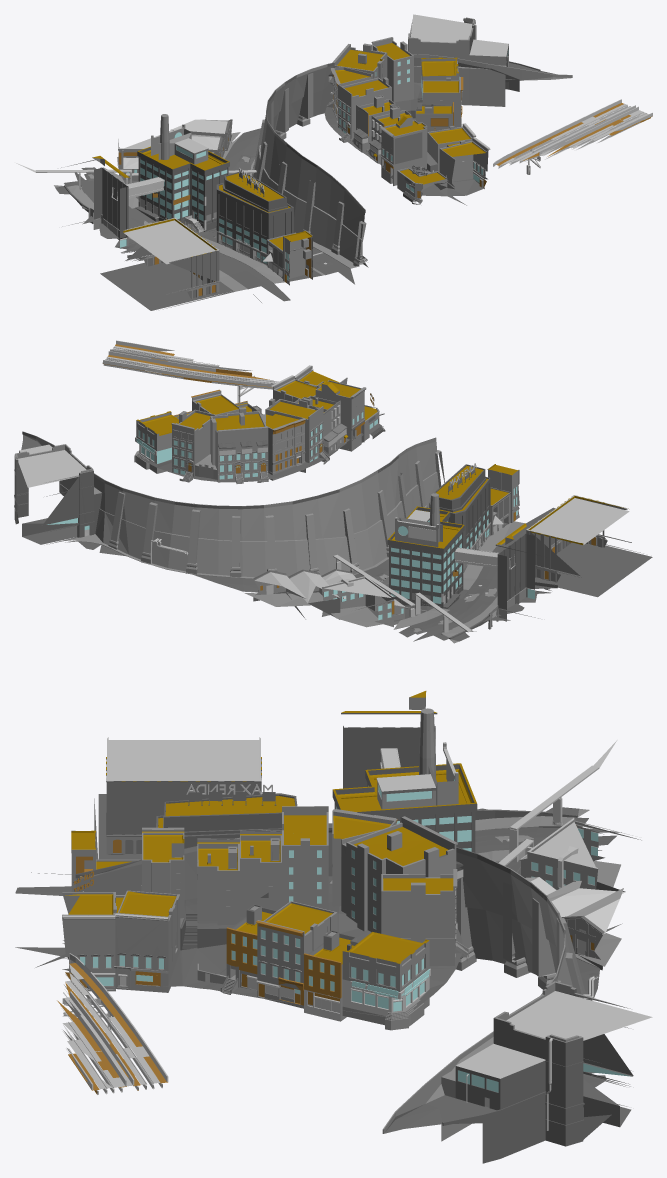
The model's file is brook_n_11.FBX.
3 renders of one model, top to bottom at view 1: azimuth 30°, elevation 25°; view 2: azimuth 150°, elevation 25°; view 3: azimuth 270°, elevation 25°, orthographic. The views are drawn at different scales.
Visible parts, largest first — view 1: unnamed, null; view 2: unnamed, null; view 3: unnamed, null.
Boxes of the visible parts, x1,y1,x2,y2 form: unnamed: [16, 37, 652, 310]; null: [289, 14, 572, 127]; unnamed: [102, 340, 652, 643]; null: [14, 414, 267, 575]; unnamed: [15, 691, 641, 1094]; null: [322, 887, 652, 1163].
Bounding box in the file's own units: 239 × 55.81 × 150.
